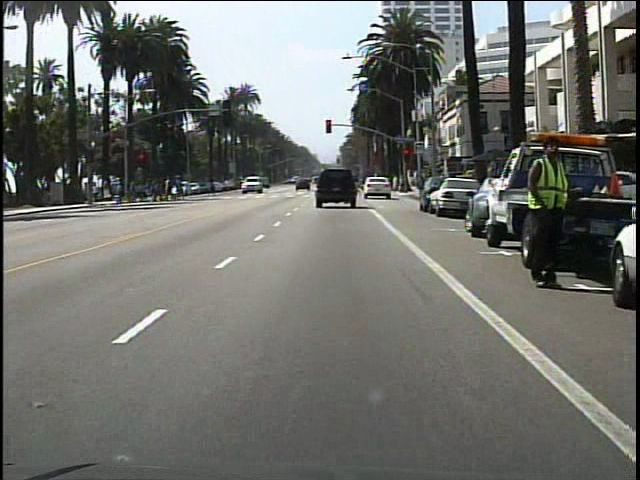person: (516, 131, 572, 290), (203, 172, 222, 201)
